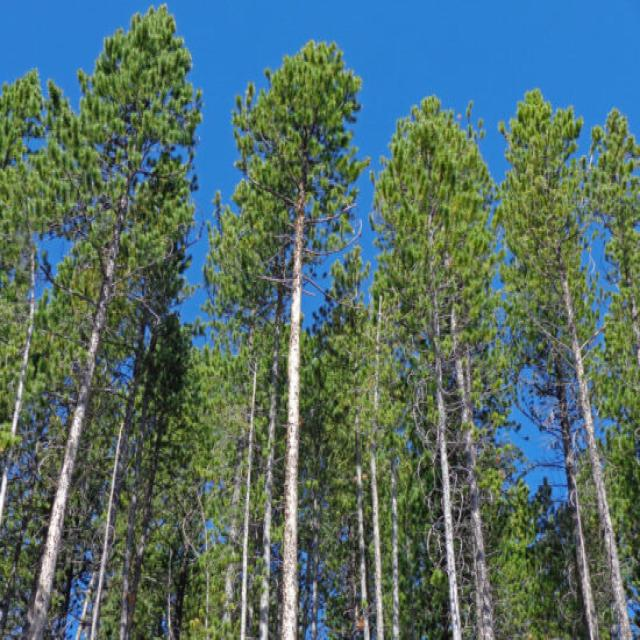Pinus contorta var: (9, 0, 208, 637), (204, 21, 375, 637)
